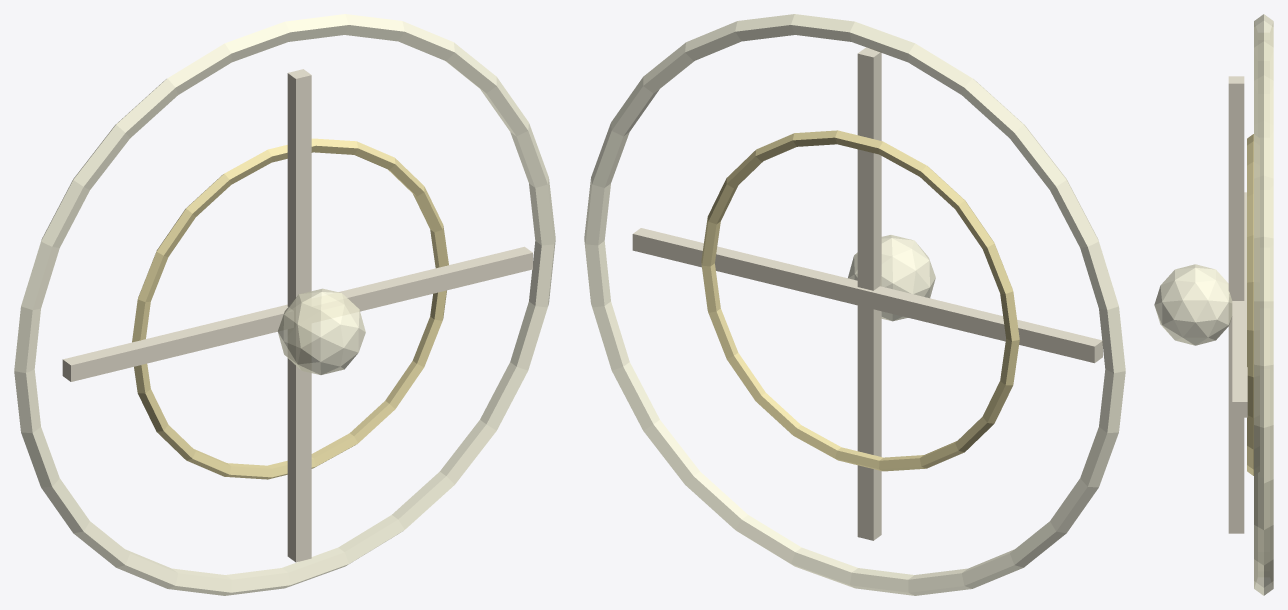
File: 06_combat_flow_anchor.glb
3 renders of one model, left to right at view 1: azimuth 30°, elevation 25°; view 2: azimuth 150°, elevation 25°; view 3: azimuth 270°, elevation 25°, orthographic. The views are drawn at different scales.
Visible parts, largest first — view 1: flow_outer_ring, flow_inner_ring, flow_lane_cross, flow_lane_forward, perfect_flow_core; view 2: flow_outer_ring, flow_inner_ring, flow_lane_forward, flow_lane_cross, perfect_flow_core; view 3: flow_outer_ring, flow_lane_cross, perfect_flow_core, flow_inner_ring, flow_lane_forward.
Part boxes in pixels (x1,y1,x2,y2): flow_outer_ring: (14,14,555,595); flow_inner_ring: (132,138,448,479); flow_lane_cross: (287,69,311,562); flow_lane_forward: (62,246,532,381); perfect_flow_core: (277,288,365,374); flow_outer_ring: (584,14,1125,595); flow_inner_ring: (701,130,1019,471); flow_lane_forward: (632,228,1102,363); flow_lane_cross: (857,47,881,540); perfect_flow_core: (848,235,935,321); flow_outer_ring: (1254,14,1273,595); flow_lane_cross: (1228,76,1244,533); perfect_flow_core: (1154,264,1232,345); flow_inner_ring: (1247,134,1259,475); flow_lane_forward: (1232,192,1247,417).
Bounding box in the file's own units: 1.7 × 1.7 × 0.3485.
